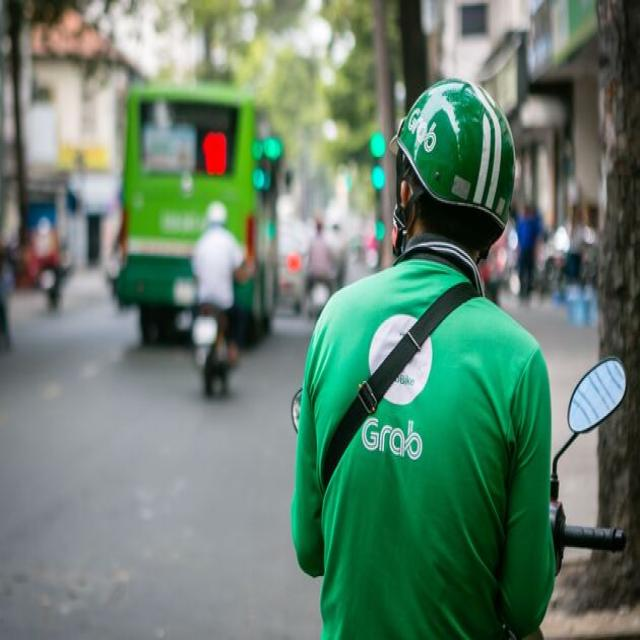helmet: (391, 76, 516, 228)
